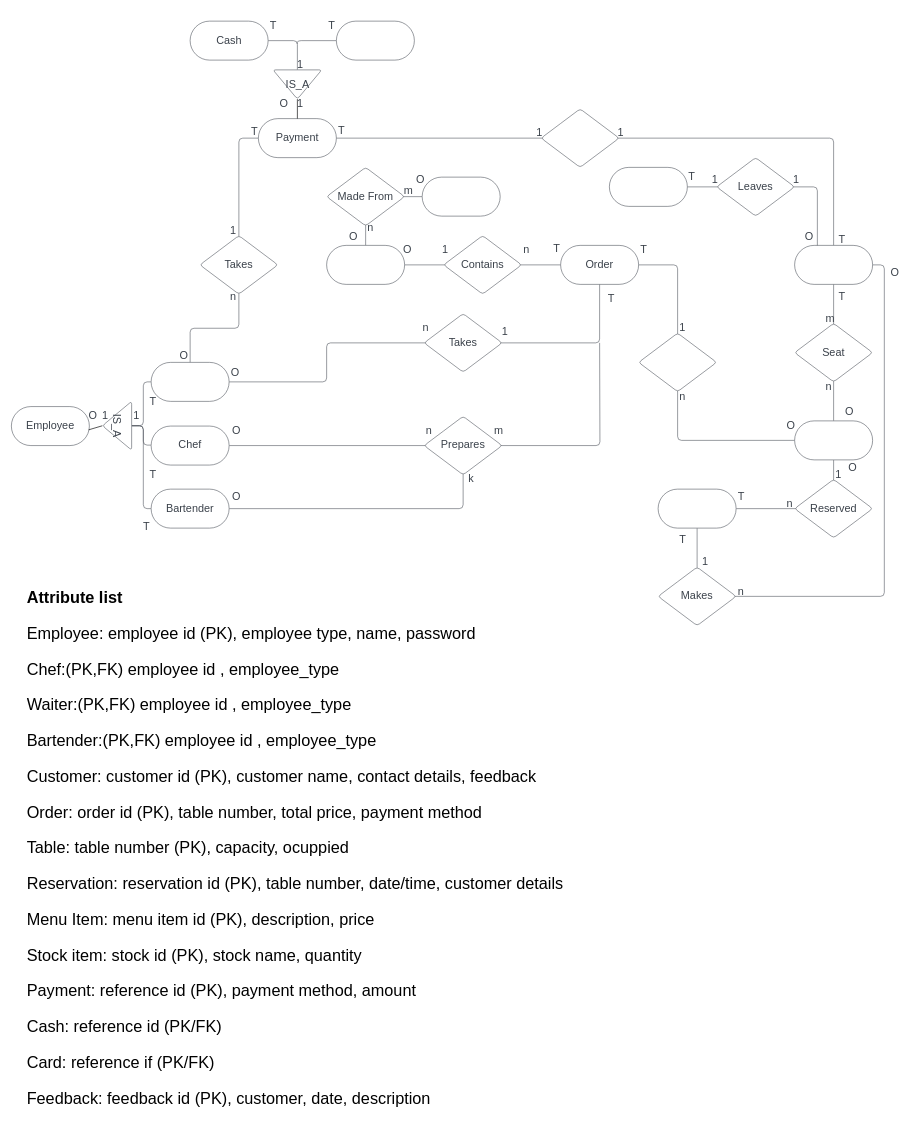
Image size: 910x1134. Some labels were removed from this diagram. Each missing label, with the centre of its shape:
"Assign" belongs at pixel 677 362.
"Card" belongs at pixel 375 40.
"Customer" belongs at pixel 833 264.
"Feedback" belongs at pixel 648 186.
"MenuItem" belongs at pixel 365 264.
"Pays" belongs at pixel 580 137.
"Reservation" belongs at pixel 697 508.
"StockItem" belongs at pixel 461 196.
"Table" belongs at pixel 833 440.
"Waiter" belongs at pixel 190 381.
